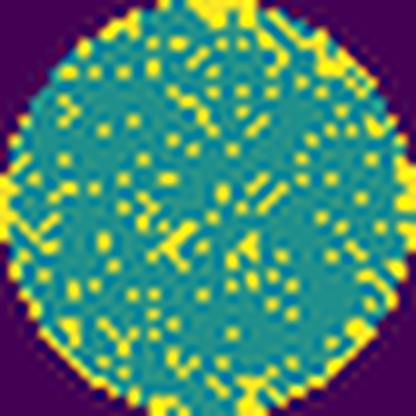Edge-Loc: (272, 310, 382, 416), (184, 0, 263, 34), (0, 173, 22, 246), (396, 152, 416, 210)
